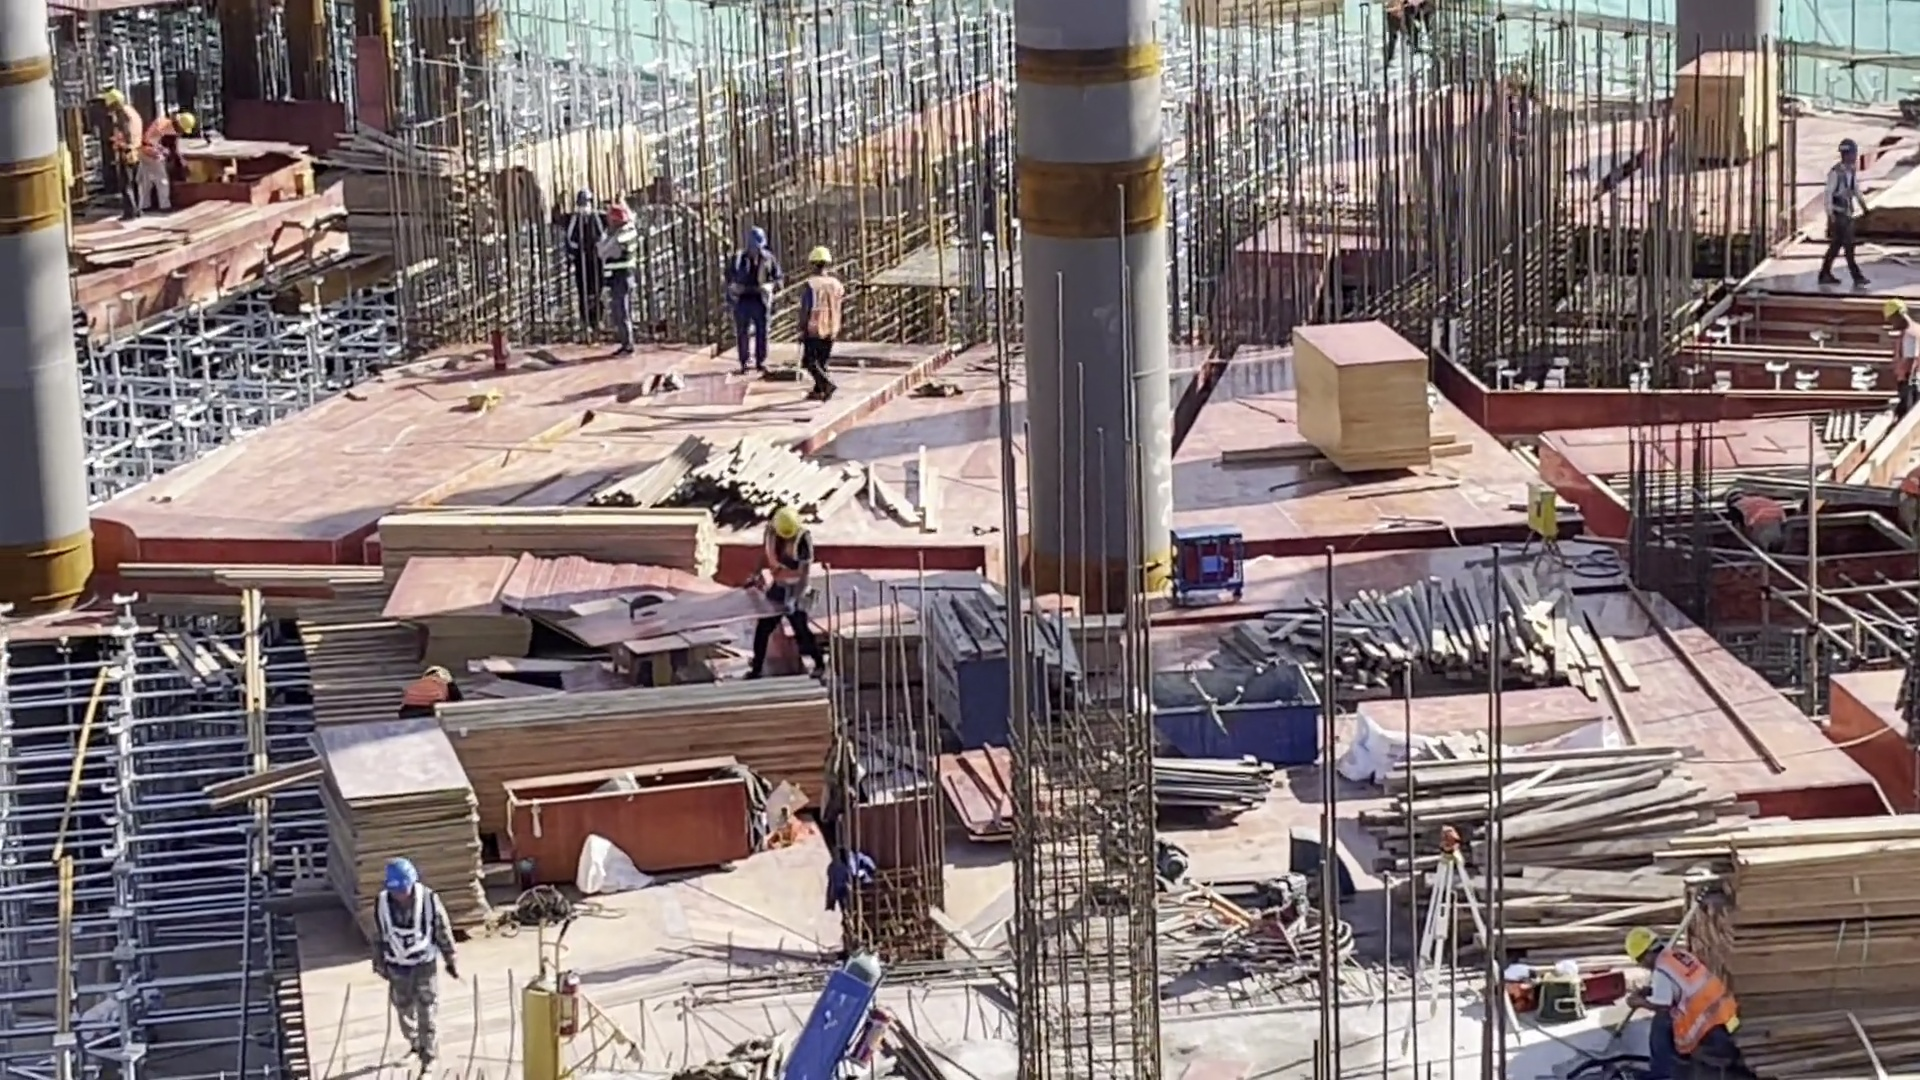board: (316, 722, 488, 944), (1291, 322, 1435, 473), (392, 558, 530, 666), (1676, 47, 1783, 164), (928, 743, 1018, 852)
cutter: (572, 576, 740, 674), (158, 135, 320, 211)
ebox: (1521, 478, 1561, 559)
helmet: (1620, 924, 1660, 959), (383, 859, 418, 888), (771, 507, 805, 535), (743, 225, 770, 250), (172, 110, 196, 134), (810, 246, 835, 269), (606, 204, 629, 225), (102, 88, 125, 106), (573, 189, 593, 206), (1838, 137, 1859, 153)
hopper: (1141, 663, 1319, 764)
person: (1610, 923, 1743, 1064), (369, 859, 446, 1069), (745, 506, 822, 683), (727, 223, 778, 373), (796, 245, 844, 408), (1815, 137, 1867, 281), (552, 190, 601, 332), (1868, 297, 1920, 424), (135, 110, 193, 218), (602, 204, 644, 357), (105, 88, 144, 220), (399, 657, 464, 718), (1731, 486, 1789, 554), (1381, 1, 1435, 65)
vest: (1653, 948, 1736, 1047), (376, 884, 438, 976), (723, 246, 782, 318), (802, 280, 841, 348), (602, 225, 638, 287), (138, 115, 173, 175), (563, 208, 597, 265), (1833, 166, 1865, 217), (112, 109, 141, 164)
wood: (1366, 737, 1729, 948), (1191, 568, 1637, 701), (1667, 828, 1916, 1058), (436, 682, 839, 778), (592, 432, 942, 535), (375, 508, 728, 585), (334, 121, 475, 270), (472, 117, 675, 213), (1181, 1, 1353, 26)
